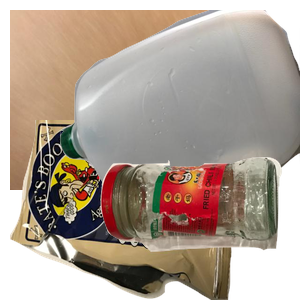cardboard: (10, 10, 250, 190)
glass: (98, 155, 300, 300)
plastic: (60, 10, 300, 190)
trash: (10, 120, 235, 300)
